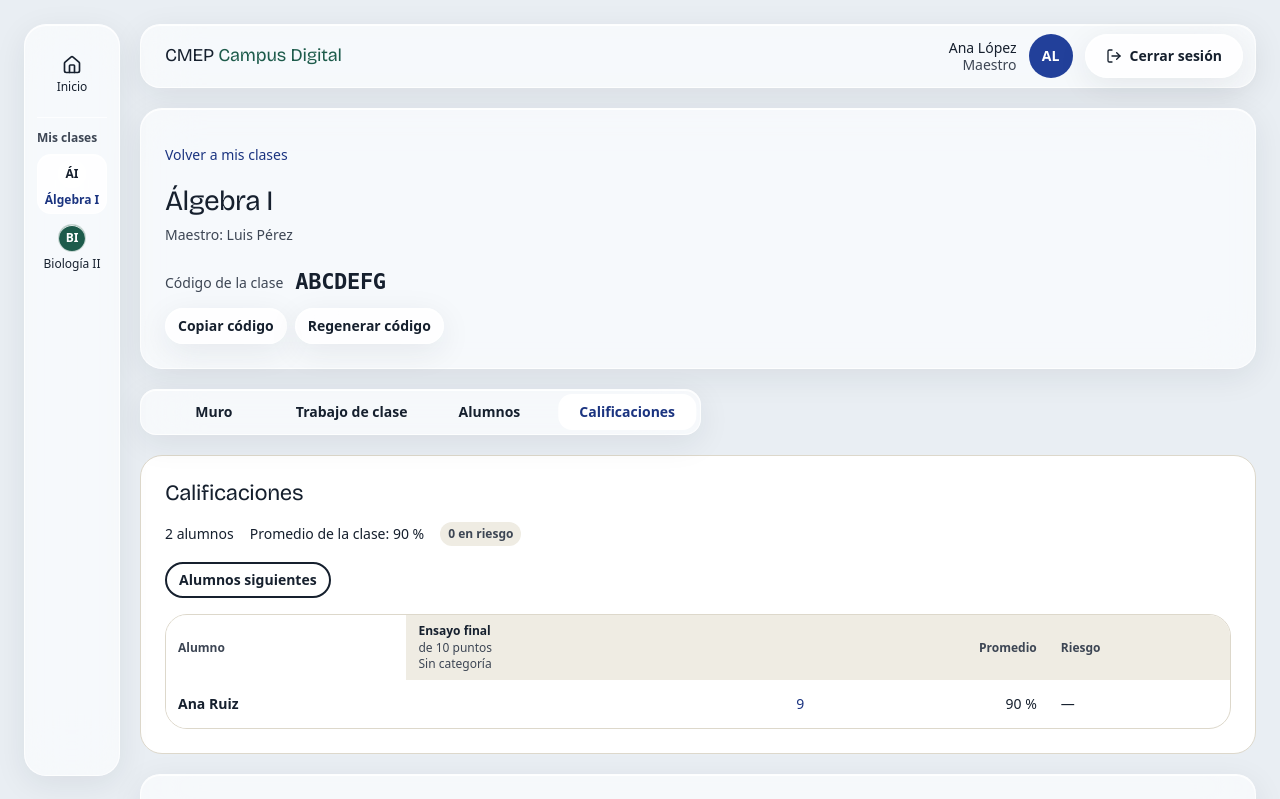
Test: T-08: «Vuelve a abrir Calificaciones» pulsando la sección «Calificaciones» (la activa) › CAL-T-228: gradebook con el texto del cursor (400): pulsar la sección «Calificaciones» vuelve a pedir la primera ventana y muestra la clase como está
Check: the text "2 alumnos" is shown, box [165,524,234,544]
Click the button "Alumnos siguientes" at coordinates (248, 580), box [165,562,331,598]
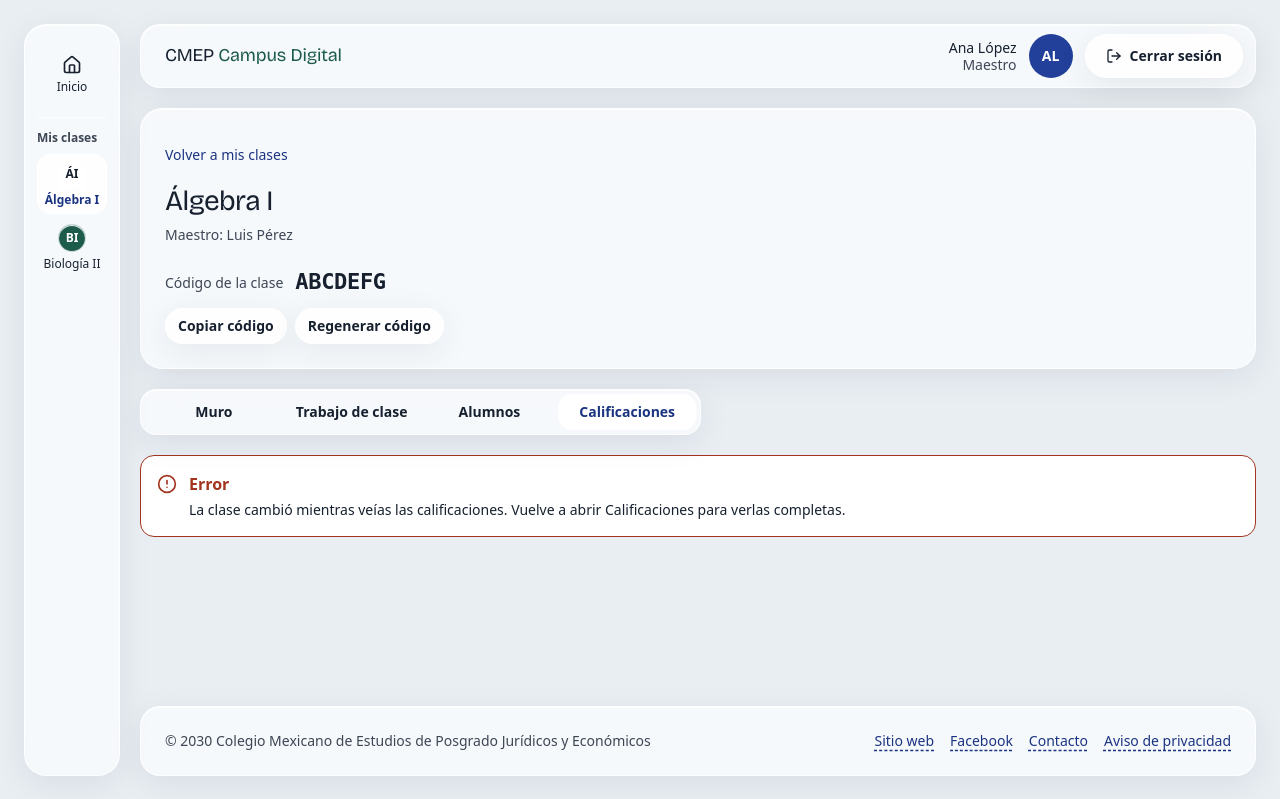
Check: the text "La clase cambió mientras veías las calificaciones. Vuelve a abrir Calificaciones para verlas completas." is shown, box [189,500,845,519]
Click the link "Calificaciones" at coordinates (627, 411), box [579,402,675,421]
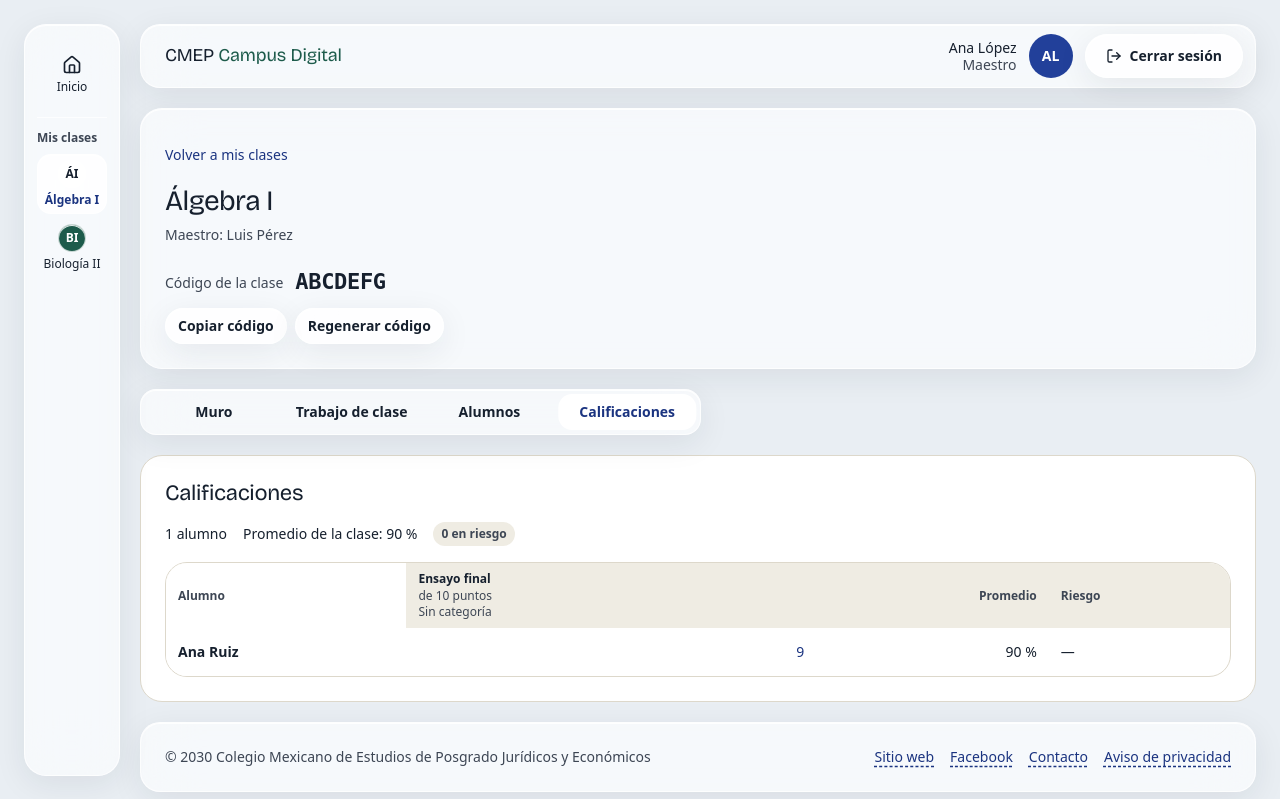
Check: the button "Alumnos siguientes" is not shown
Check: the text "La clase cambió mientras veías las calificaciones. Vuelve a abrir Calificaciones para verlas completas." is gone
Check: the text "1 alumno" is shown, box [165,524,227,544]
